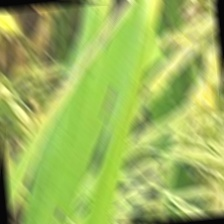Leaf_Blast: (46, 6, 150, 96)
